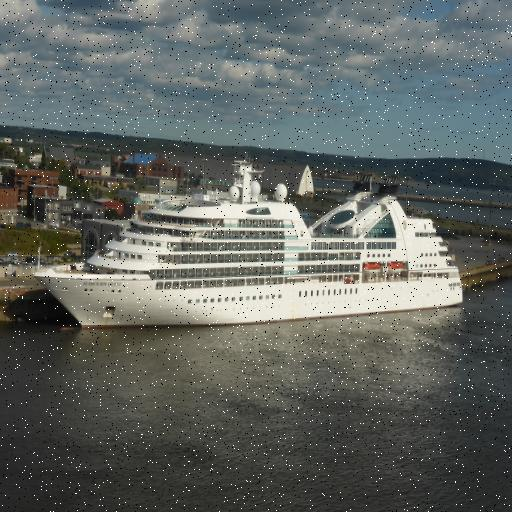cruises: (33, 156, 466, 335)
